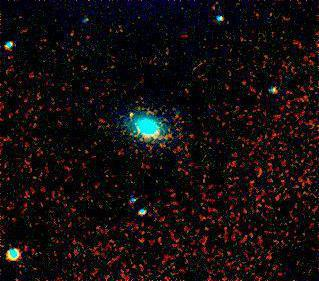star: (117, 100, 147, 130)
